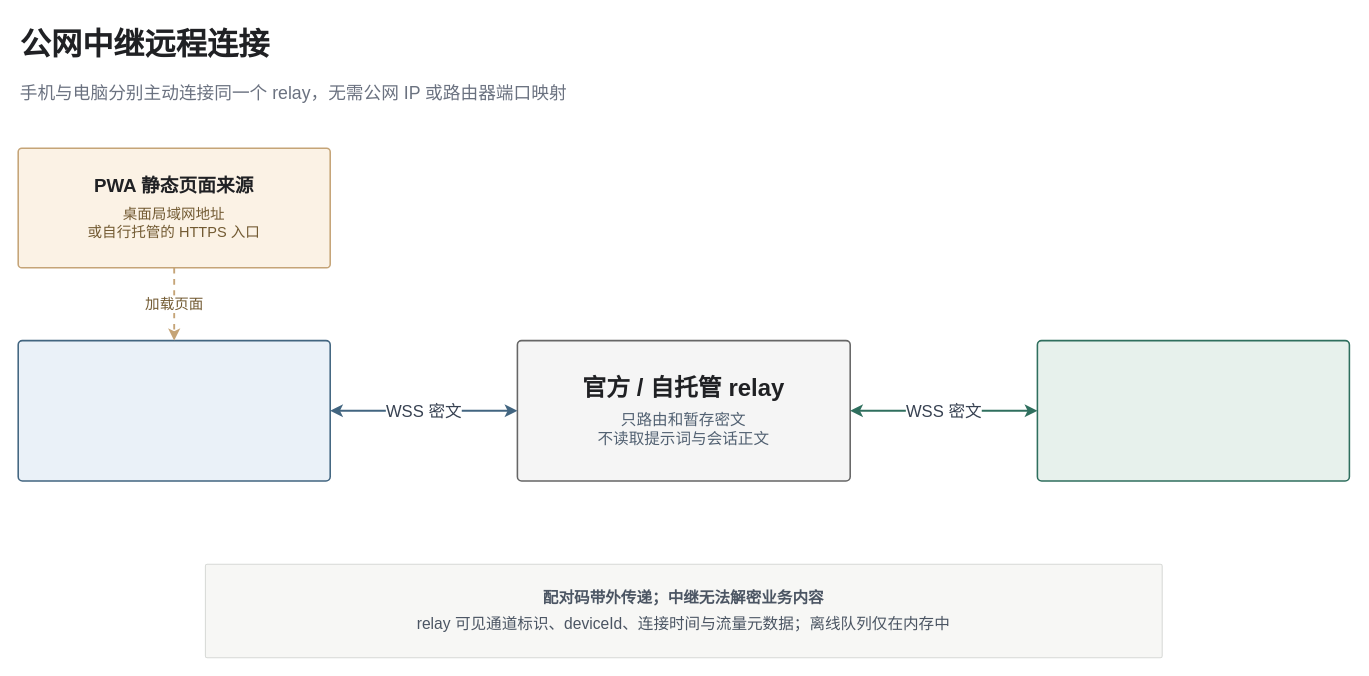
Some shapes in this 1369 by 676 pixel diagram are drawn without their labels. Each missing label, with the box of its shape:
手机 PWA 蜂窝网络 / 其他 Wi-Fi 持有设备密钥与配对记录: (17, 339, 331, 481)
电脑 Spcod 保持运行并联网 主动出站连接 relay: (1036, 339, 1350, 481)
